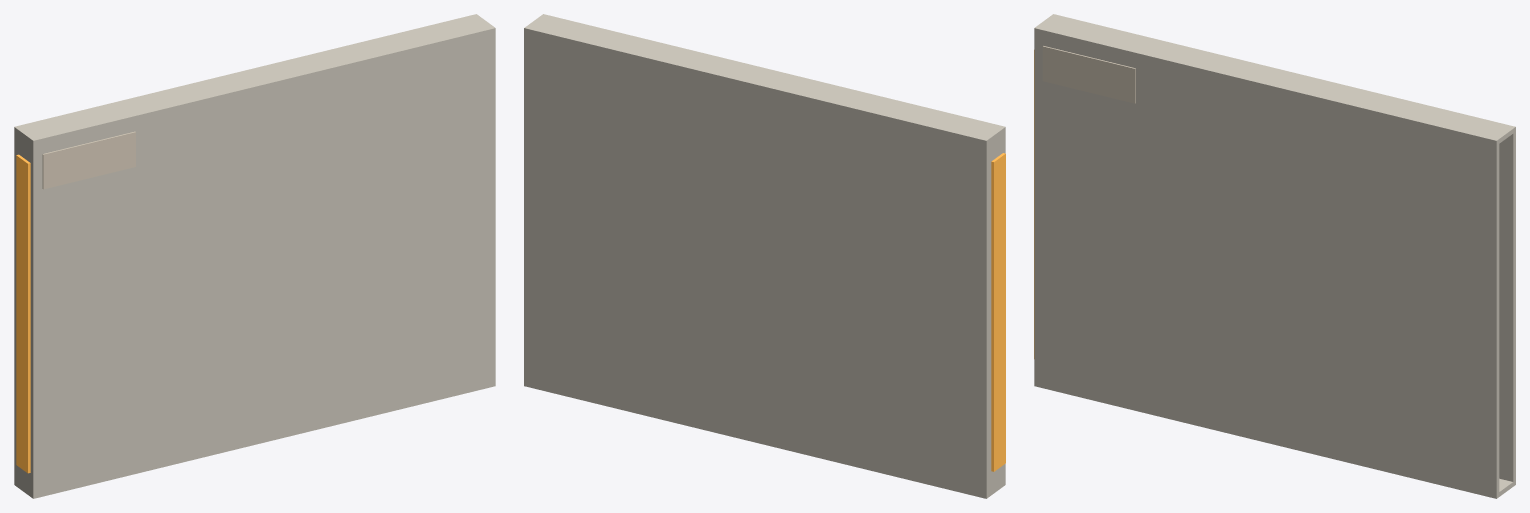
Rendered from vinyl-sleeve.glb.
3 renders of one model, left to right at view 1: azimuth 30°, elevation 25°; view 2: azimuth 150°, elevation 25°; view 3: azimuth 330°, elevation 25°, orthographic.
Visible parts, largest first — view 1: cover__Sleeve_Paper, carrier__Sleeve_Paper (×3), fasteners__Amber_Lightguide, fasteners__Index_Inlay; view 2: carrier__Sleeve_Paper (×3), fasteners__Amber_Lightguide, cover__Sleeve_Paper; view 3: cover__Sleeve_Paper, carrier__Sleeve_Paper (×2), fasteners__Index_Inlay.
Boxes of the visible parts, x1,y1,x2,y2 form: cover__Sleeve_Paper: [30, 26, 495, 498]; carrier__Sleeve_Paper (×3): [14, 14, 492, 496]; fasteners__Amber_Lightguide: [16, 154, 30, 473]; fasteners__Index_Inlay: [42, 131, 135, 189]; carrier__Sleeve_Paper (×3): [524, 16, 1002, 498]; fasteners__Amber_Lightguide: [991, 153, 1005, 471]; cover__Sleeve_Paper: [541, 14, 1005, 486]; cover__Sleeve_Paper: [1034, 26, 1499, 498]; carrier__Sleeve_Paper (×2): [1042, 14, 1515, 486]; fasteners__Index_Inlay: [1042, 46, 1135, 103].
Bounding box in the file's own units: 5.03 × 3.7 × 0.374.
